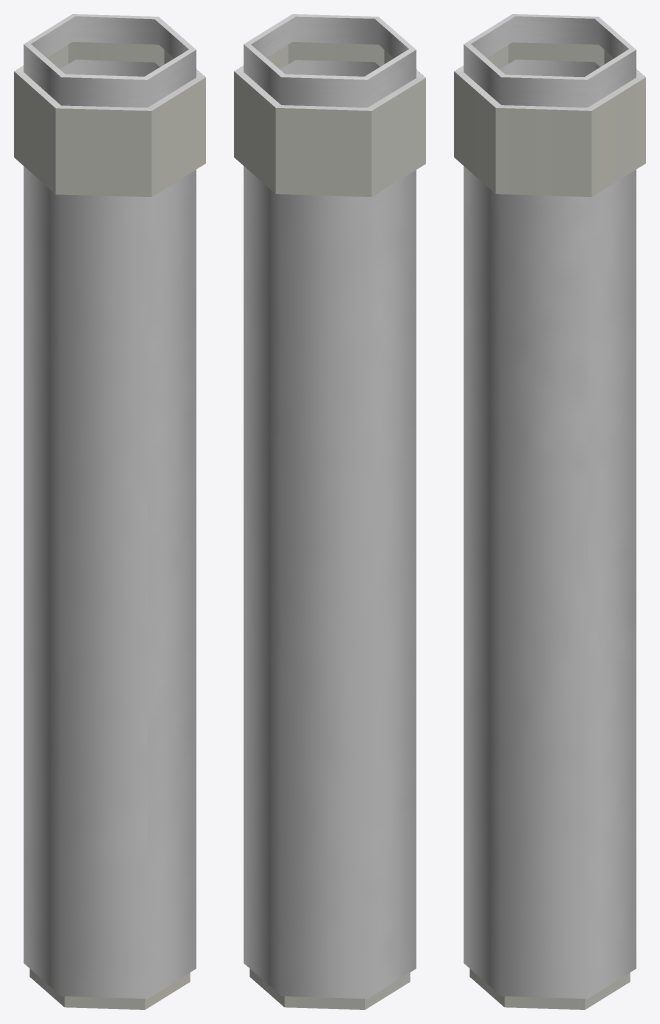
Rendered from SM_微波消解罐.FBX.
The picture shows the model from 3 angles, left to right: view 1: azimuth 30°, elevation 25°; view 2: azimuth 150°, elevation 25°; view 3: azimuth 270°, elevation 25°; orthographic projection.
Parts seen in each view (by area): view 1: SM_消解罐; view 2: SM_消解罐; view 3: SM_消解罐.
Boxes of the visible parts, box(x1,y1,x2,y2) form: SM_消解罐: box(14, 14, 205, 1009); SM_消解罐: box(234, 14, 425, 1009); SM_消解罐: box(454, 14, 645, 1009).
Size of the model in its own units: 33.11 by 197 by 36.64.
